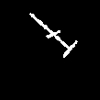double_crochet: (30, 13, 76, 57)
